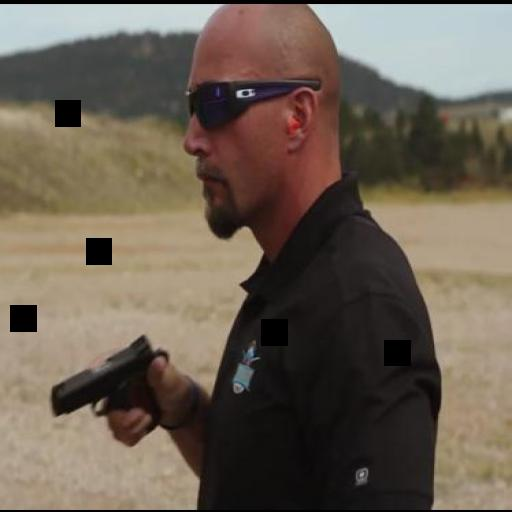Handgun: (48, 331, 170, 443)
